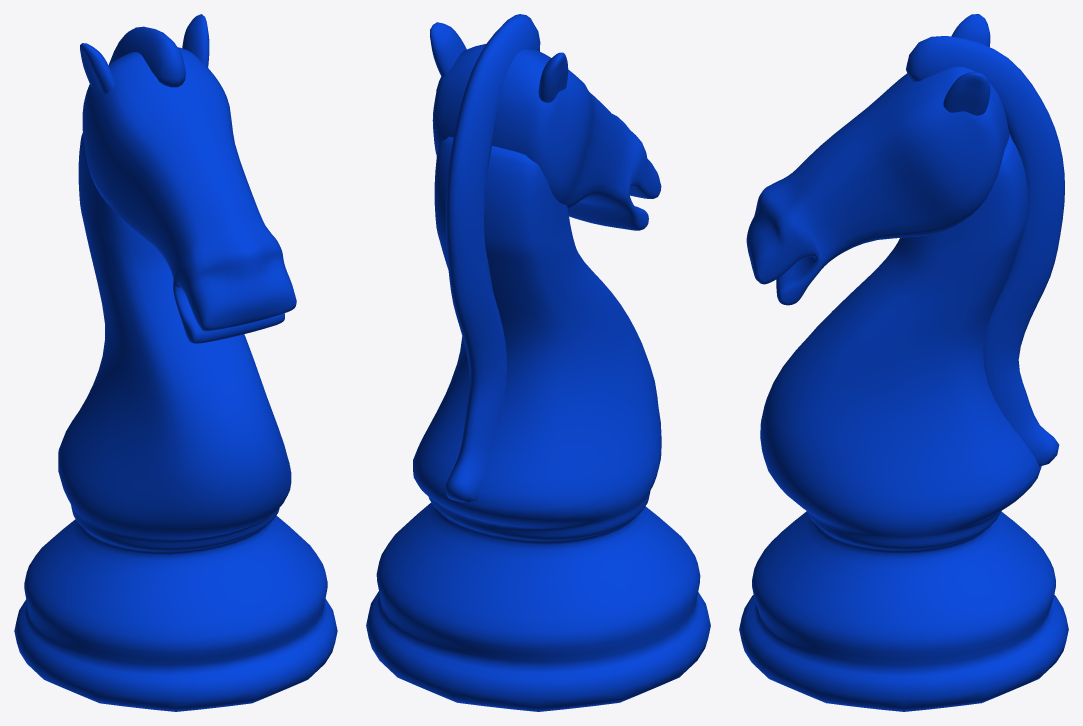
The model's file is knight.obj.
3 renders of one model, left to right at view 1: azimuth 30°, elevation 25°; view 2: azimuth 150°, elevation 25°; view 3: azimuth 270°, elevation 25°, orthographic. The views are drawn at different scales.
Parts seen in each view (by area): view 1: curve2; view 2: curve2; view 3: curve2.
Part boxes in pixels (<box>): curve2: <box>14,14,337,711</box>; curve2: <box>366,14,710,711</box>; curve2: <box>739,14,1068,711</box>.
Bounding box in the file's own units: 1.71 × 3.53 × 1.71.
